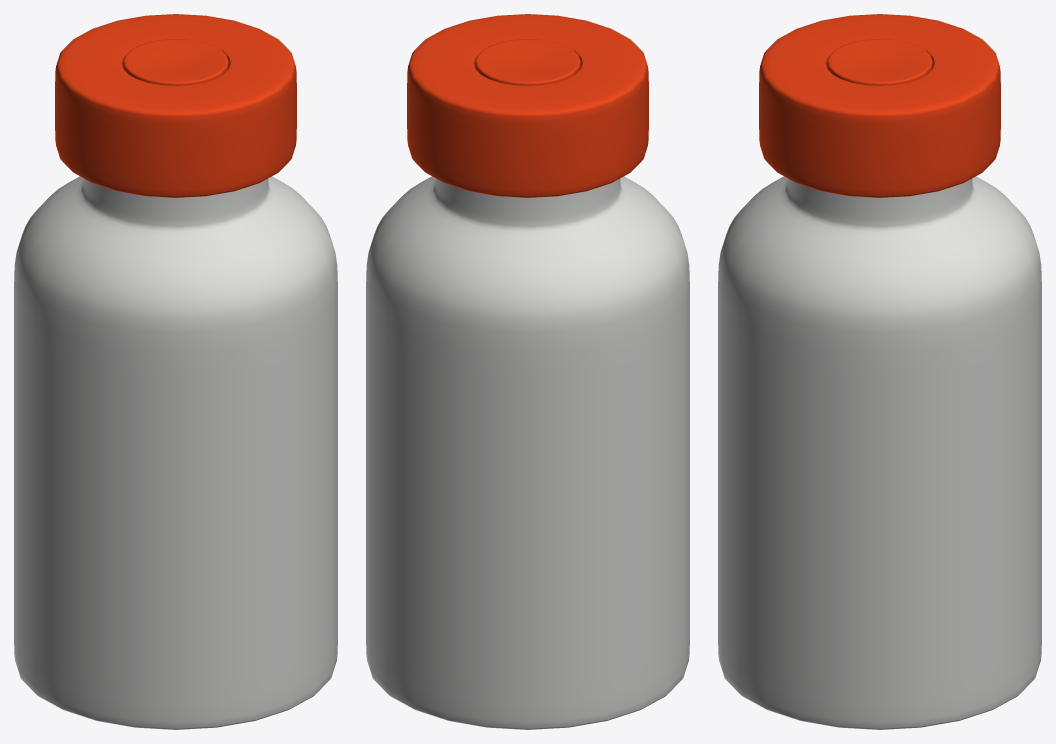
Rendered from GALINTROL.fbx.
3 views of the same model, side by side, from view 1: azimuth 30°, elevation 25°; view 2: azimuth 150°, elevation 25°; view 3: azimuth 270°, elevation 25° (orthographic).
Parts seen in each view (by area): view 1: vacineobj; view 2: vacineobj; view 3: vacineobj.
Part boxes in pixels (x1,y1,x2,y2): vacineobj: [14, 14, 337, 729]; vacineobj: [366, 14, 689, 729]; vacineobj: [718, 14, 1041, 729].
Bounding box in the file's own units: 16.53 × 33.95 × 16.53.
